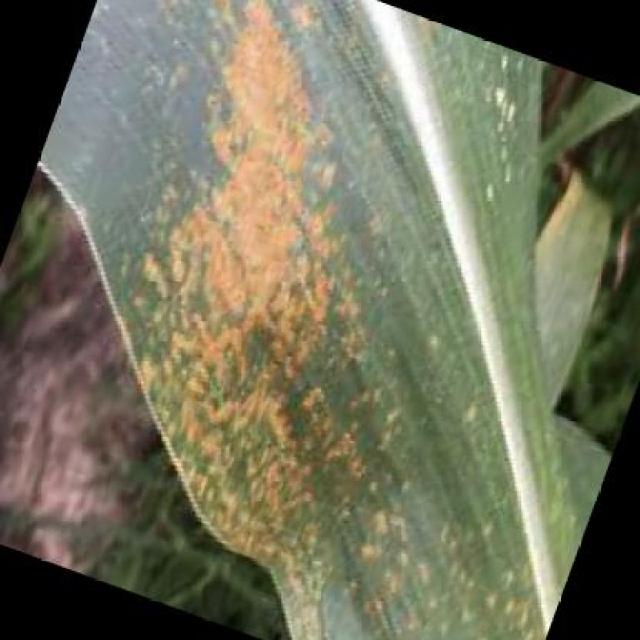Corn_Rust: (79, 56, 512, 570)
